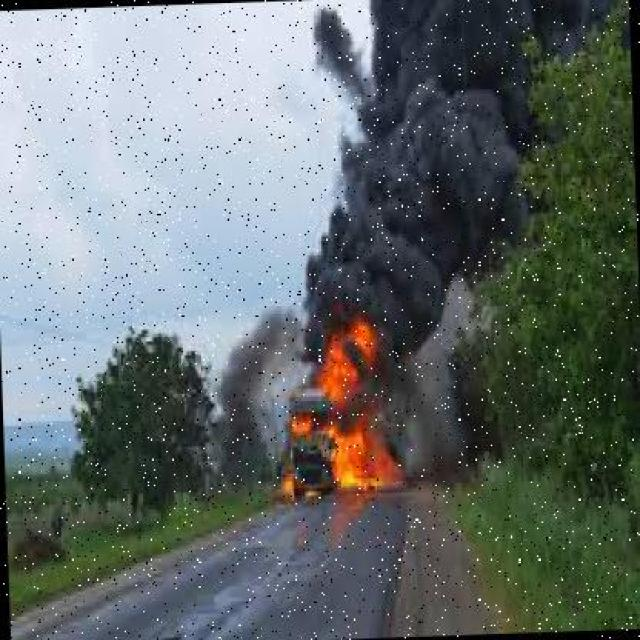fire: (265, 317, 420, 505)
